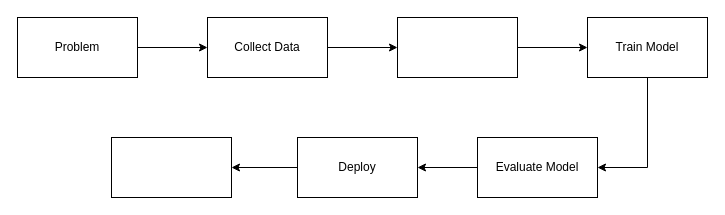
Image size: 725x215. Some labels were removed from this diagram. Each missing label, with the box of its shape:
Clean Data: (396, 16, 518, 78)
Prediction: (110, 136, 232, 198)
